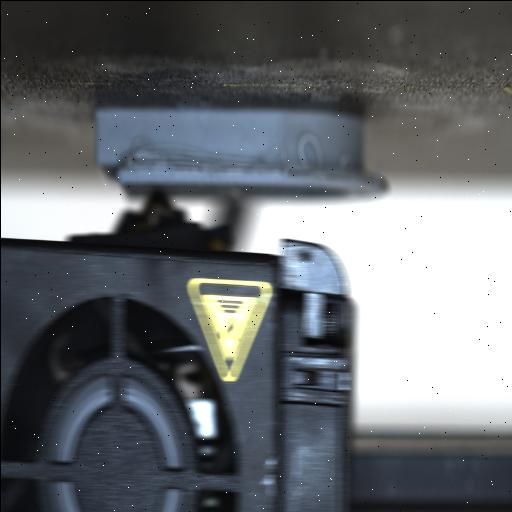layer_shift: (93, 156, 388, 176)
